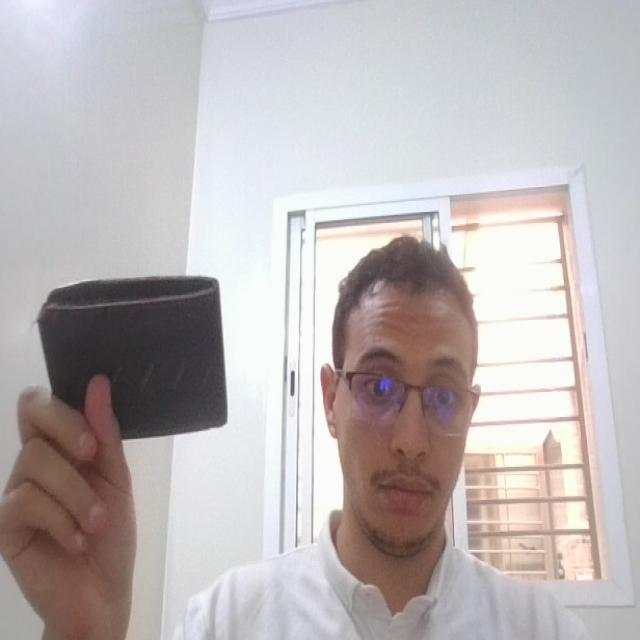wallet: (34, 273, 244, 451)
